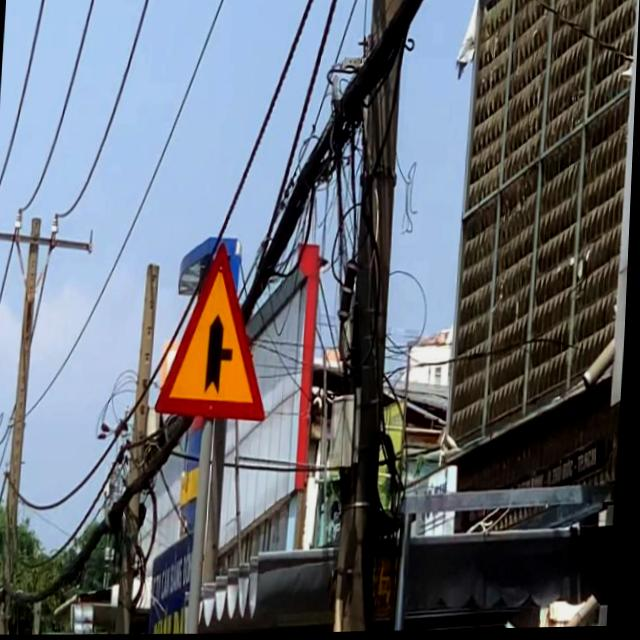Giao nhau voi duong khong uu tien ben phai: (151, 229, 286, 433)
